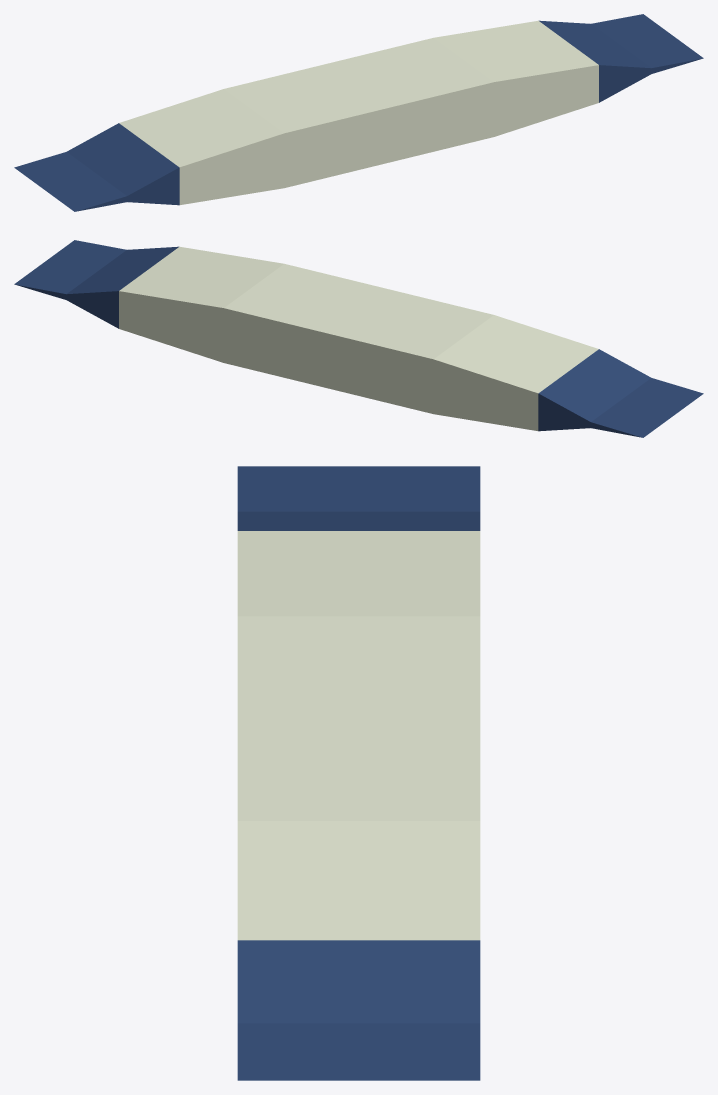
The model's file is sobre azucar.fbx.
3 renders of one model, top to bottom at view 1: azimuth 30°, elevation 25°; view 2: azimuth 150°, elevation 25°; view 3: azimuth 270°, elevation 25°, orthographic. The views are drawn at different scales.
Parts seen in each view (by area): view 1: sobre azucar; view 2: sobre azucar; view 3: sobre azucar.
Part boxes in pixels (x1,y1,x2,y2): sobre azucar: [14, 14, 703, 211]; sobre azucar: [14, 240, 703, 437]; sobre azucar: [237, 466, 480, 1080].
Size of the model in its own units: 12 by 1 by 2.
